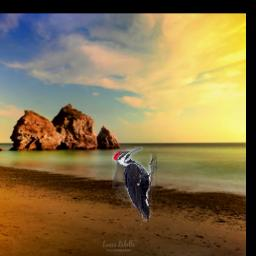Woodpecker: (113, 148, 158, 223)
